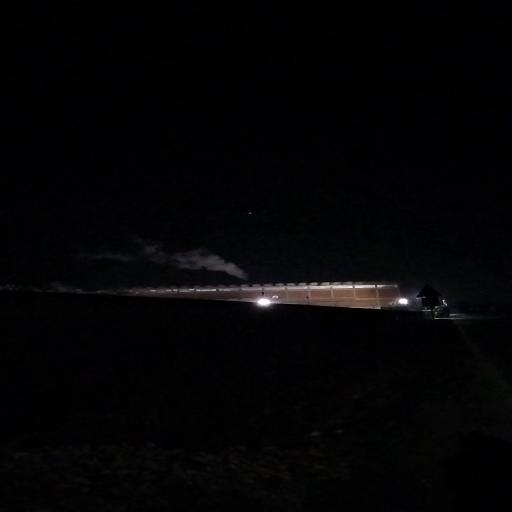leakage: (136, 236, 256, 282)
